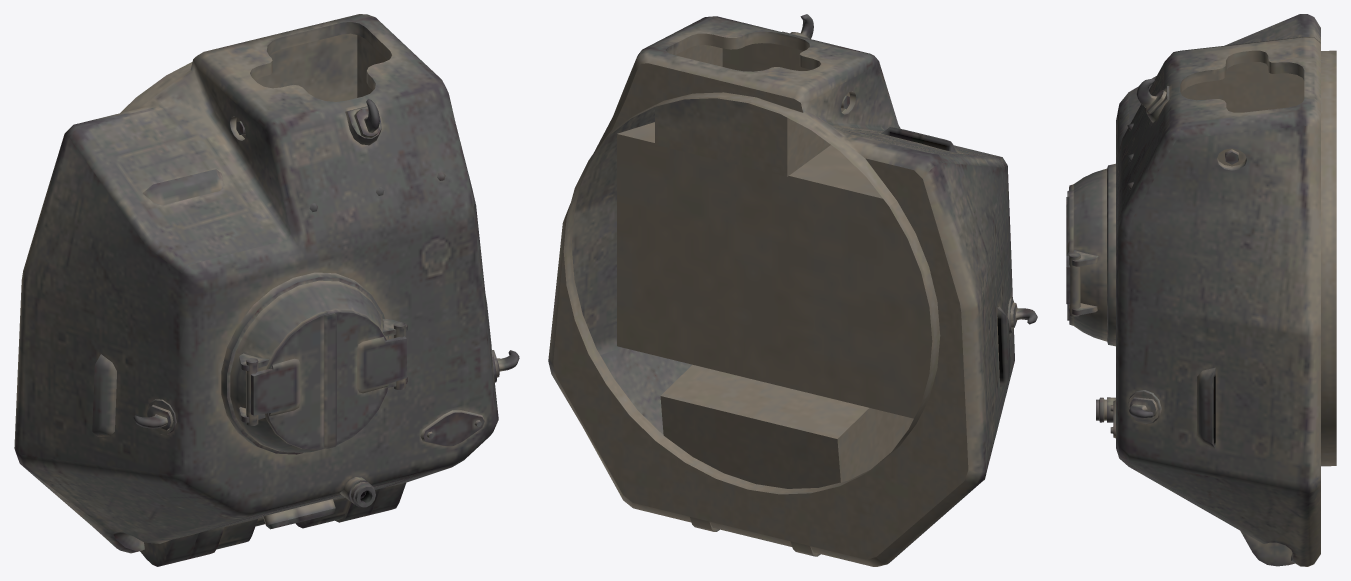
Rendered from Turret_01.glb.
3 views of the same model, side by side, from view 1: azimuth 30°, elevation 25°; view 2: azimuth 150°, elevation 25°; view 3: azimuth 270°, elevation 25° (orthographic). The views are drawn at different scales.
Visible parts, largest first — view 1: set_0_group_0; view 2: set_0_group_0; view 3: set_0_group_0.
Boxes of the visible parts, box(x1,y1,x2,y2) form: set_0_group_0: box(14, 14, 519, 566); set_0_group_0: box(548, 14, 1037, 566); set_0_group_0: box(1066, 14, 1336, 566).
Bounding box in the file's own units: 1.18 × 1.21 × 0.649.
1 material, 1 textured.
